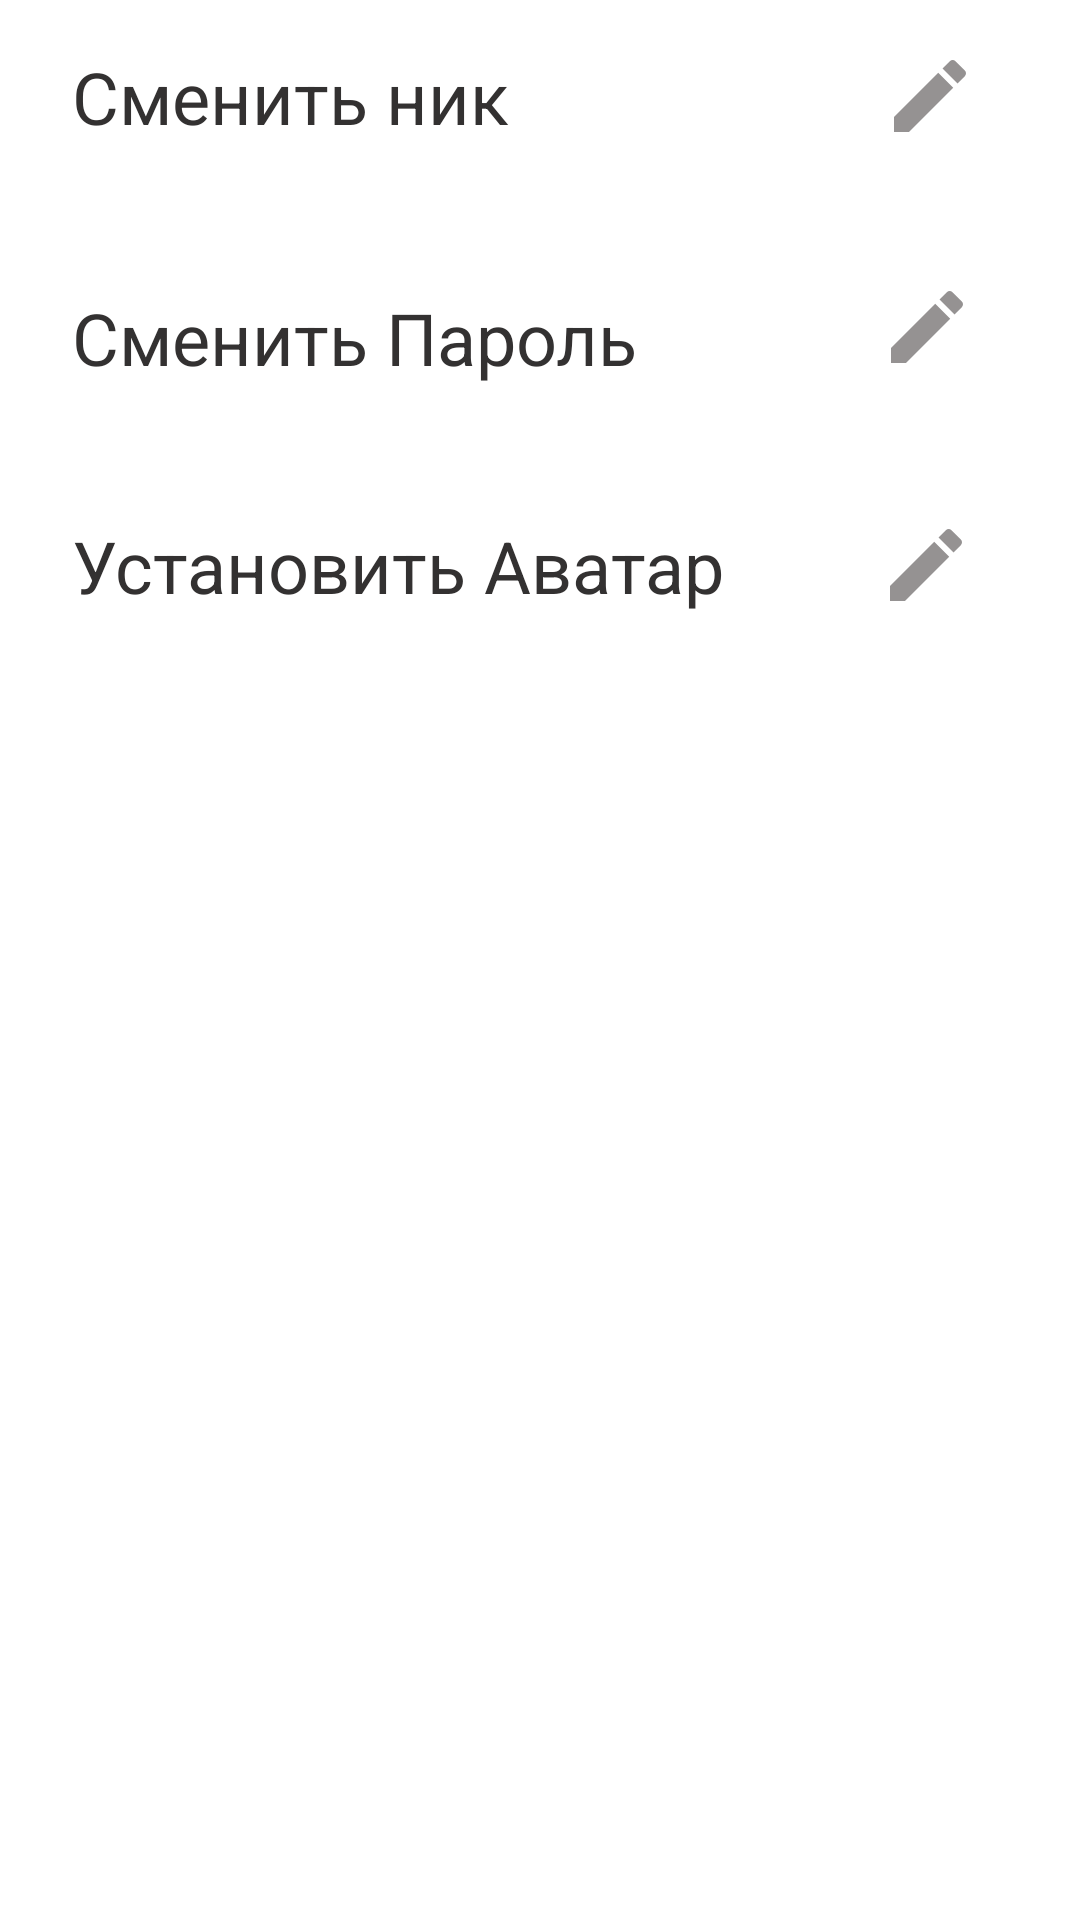

Icons on this 1080 × 1920 Android screen, each with its box as BBox(x1, y1, x2, y2):
pencil: BBox(894, 60, 966, 132), BBox(891, 291, 963, 363), BBox(890, 529, 962, 601)
